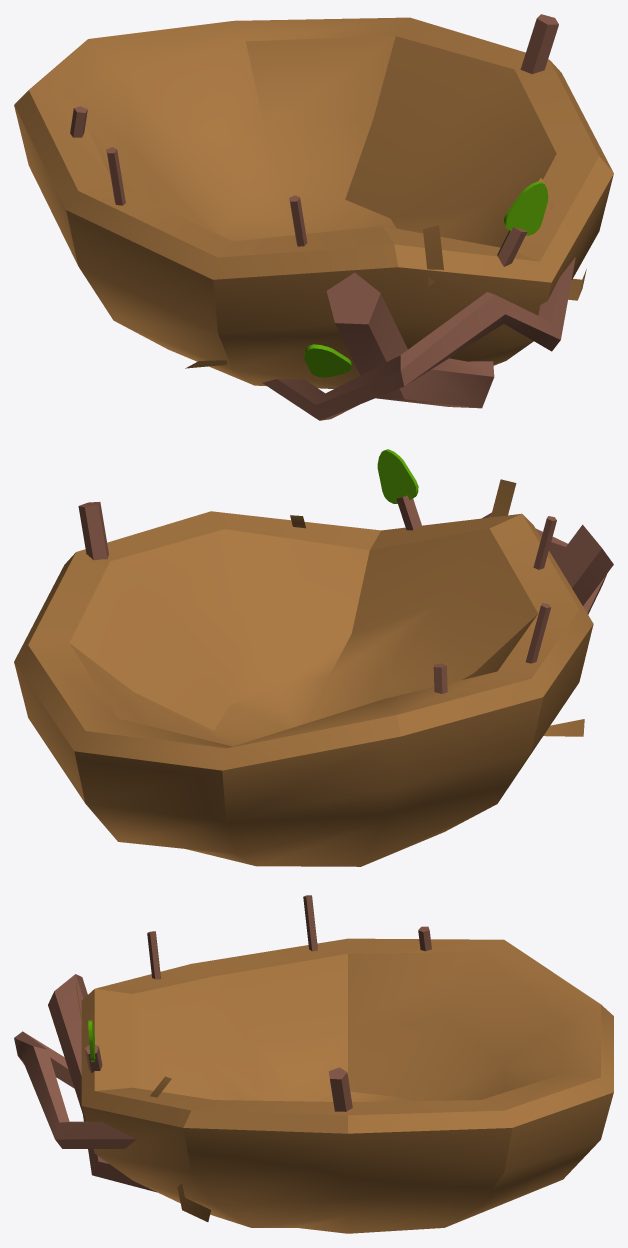
File: Ms_Nid01.fbx
The picture shows the model from 3 angles, top to bottom: view 1: azimuth 30°, elevation 25°; view 2: azimuth 150°, elevation 25°; view 3: azimuth 270°, elevation 25°; orthographic projection. The views are drawn at different scales.
Parts seen in each view (by area): view 1: Paille00, Branche700, Branche00, Feuille300, Branche400, Feuille200, Paillette900, Branche500, Branche200, Branche300; view 2: Paille00, Branche00, Feuille300, Branche400, Branche500, Paillette900, Branche300, Branche200, Branche700; view 3: Paille00, Branche700, Branche00, Branche400, Branche500, Paillette1000.
Boxes of the visible parts, box(x1,y1,x2,y2) form: Paille00: box(14, 17, 613, 388); Branche700: box(262, 257, 575, 420); Branche00: box(326, 272, 494, 408); Feuille300: box(504, 181, 548, 235); Branche400: box(520, 14, 558, 74); Feuille200: box(304, 344, 351, 377); Paillette900: box(423, 225, 443, 286); Branche500: box(106, 147, 125, 205); Branche200: box(497, 227, 527, 266); Branche300: box(289, 195, 307, 246); Paille00: box(14, 511, 593, 866); Branche00: box(555, 524, 613, 605); Feuille300: box(377, 449, 418, 503); Branche400: box(78, 502, 108, 560); Branche500: box(525, 603, 551, 663); Paillette900: box(491, 479, 516, 517); Branche300: box(533, 516, 556, 569); Branche200: box(396, 495, 421, 530); Branche700: box(481, 512, 606, 614); Paille00: box(81, 938, 613, 1233); Branche700: box(14, 1031, 136, 1148); Branche00: box(48, 974, 156, 1192); Branche400: box(328, 1067, 352, 1111); Branche500: box(303, 895, 317, 951); Paillette1000: box(177, 1183, 210, 1221).
Bounding box in the file's own units: 0.3148 × 0.1698 × 0.3993.
